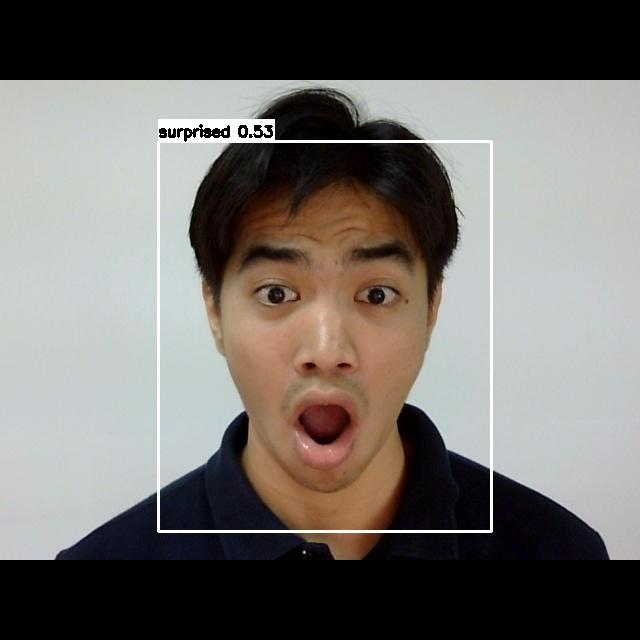Surprised: (216, 222, 439, 496)
